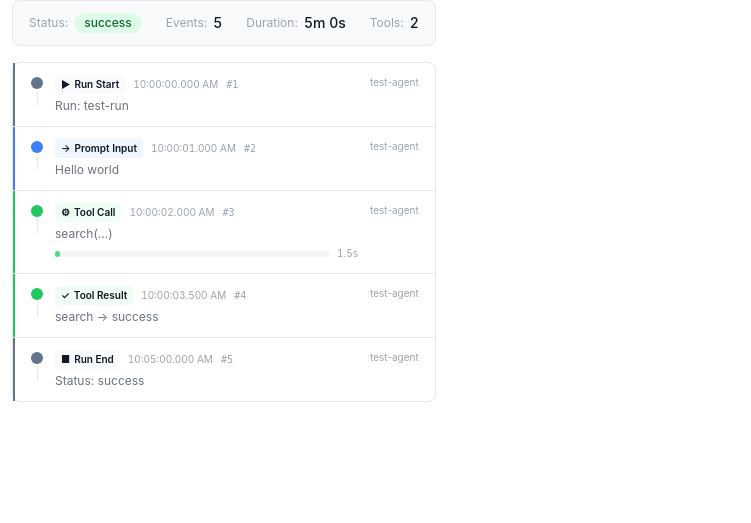
Scenario: ReplayTimelineView › closes event detail panel on close button click
Open detail panel
Click the button "▶ Run Start 10:00:00.000 AM #1 Run: test-run test-agent" at (90, 84), box [13,63,435,126]
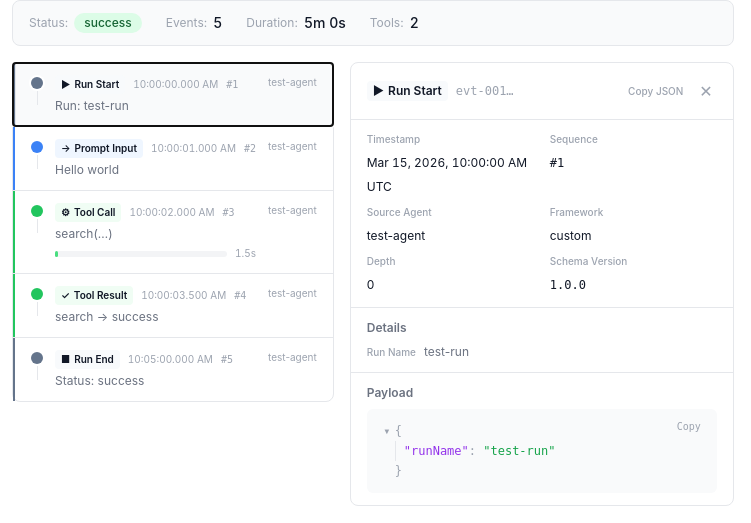
Close it
Click the button named "Close event detail" at (706, 91), box [695,75,717,107]
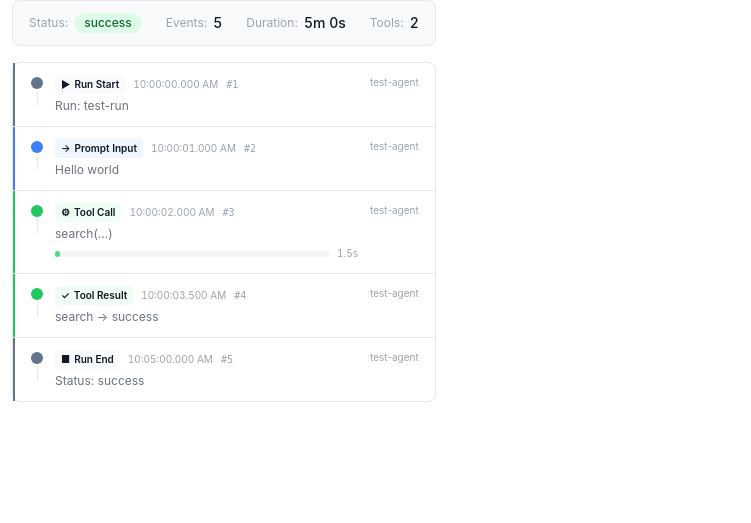
Check: the text "Payload" is gone
